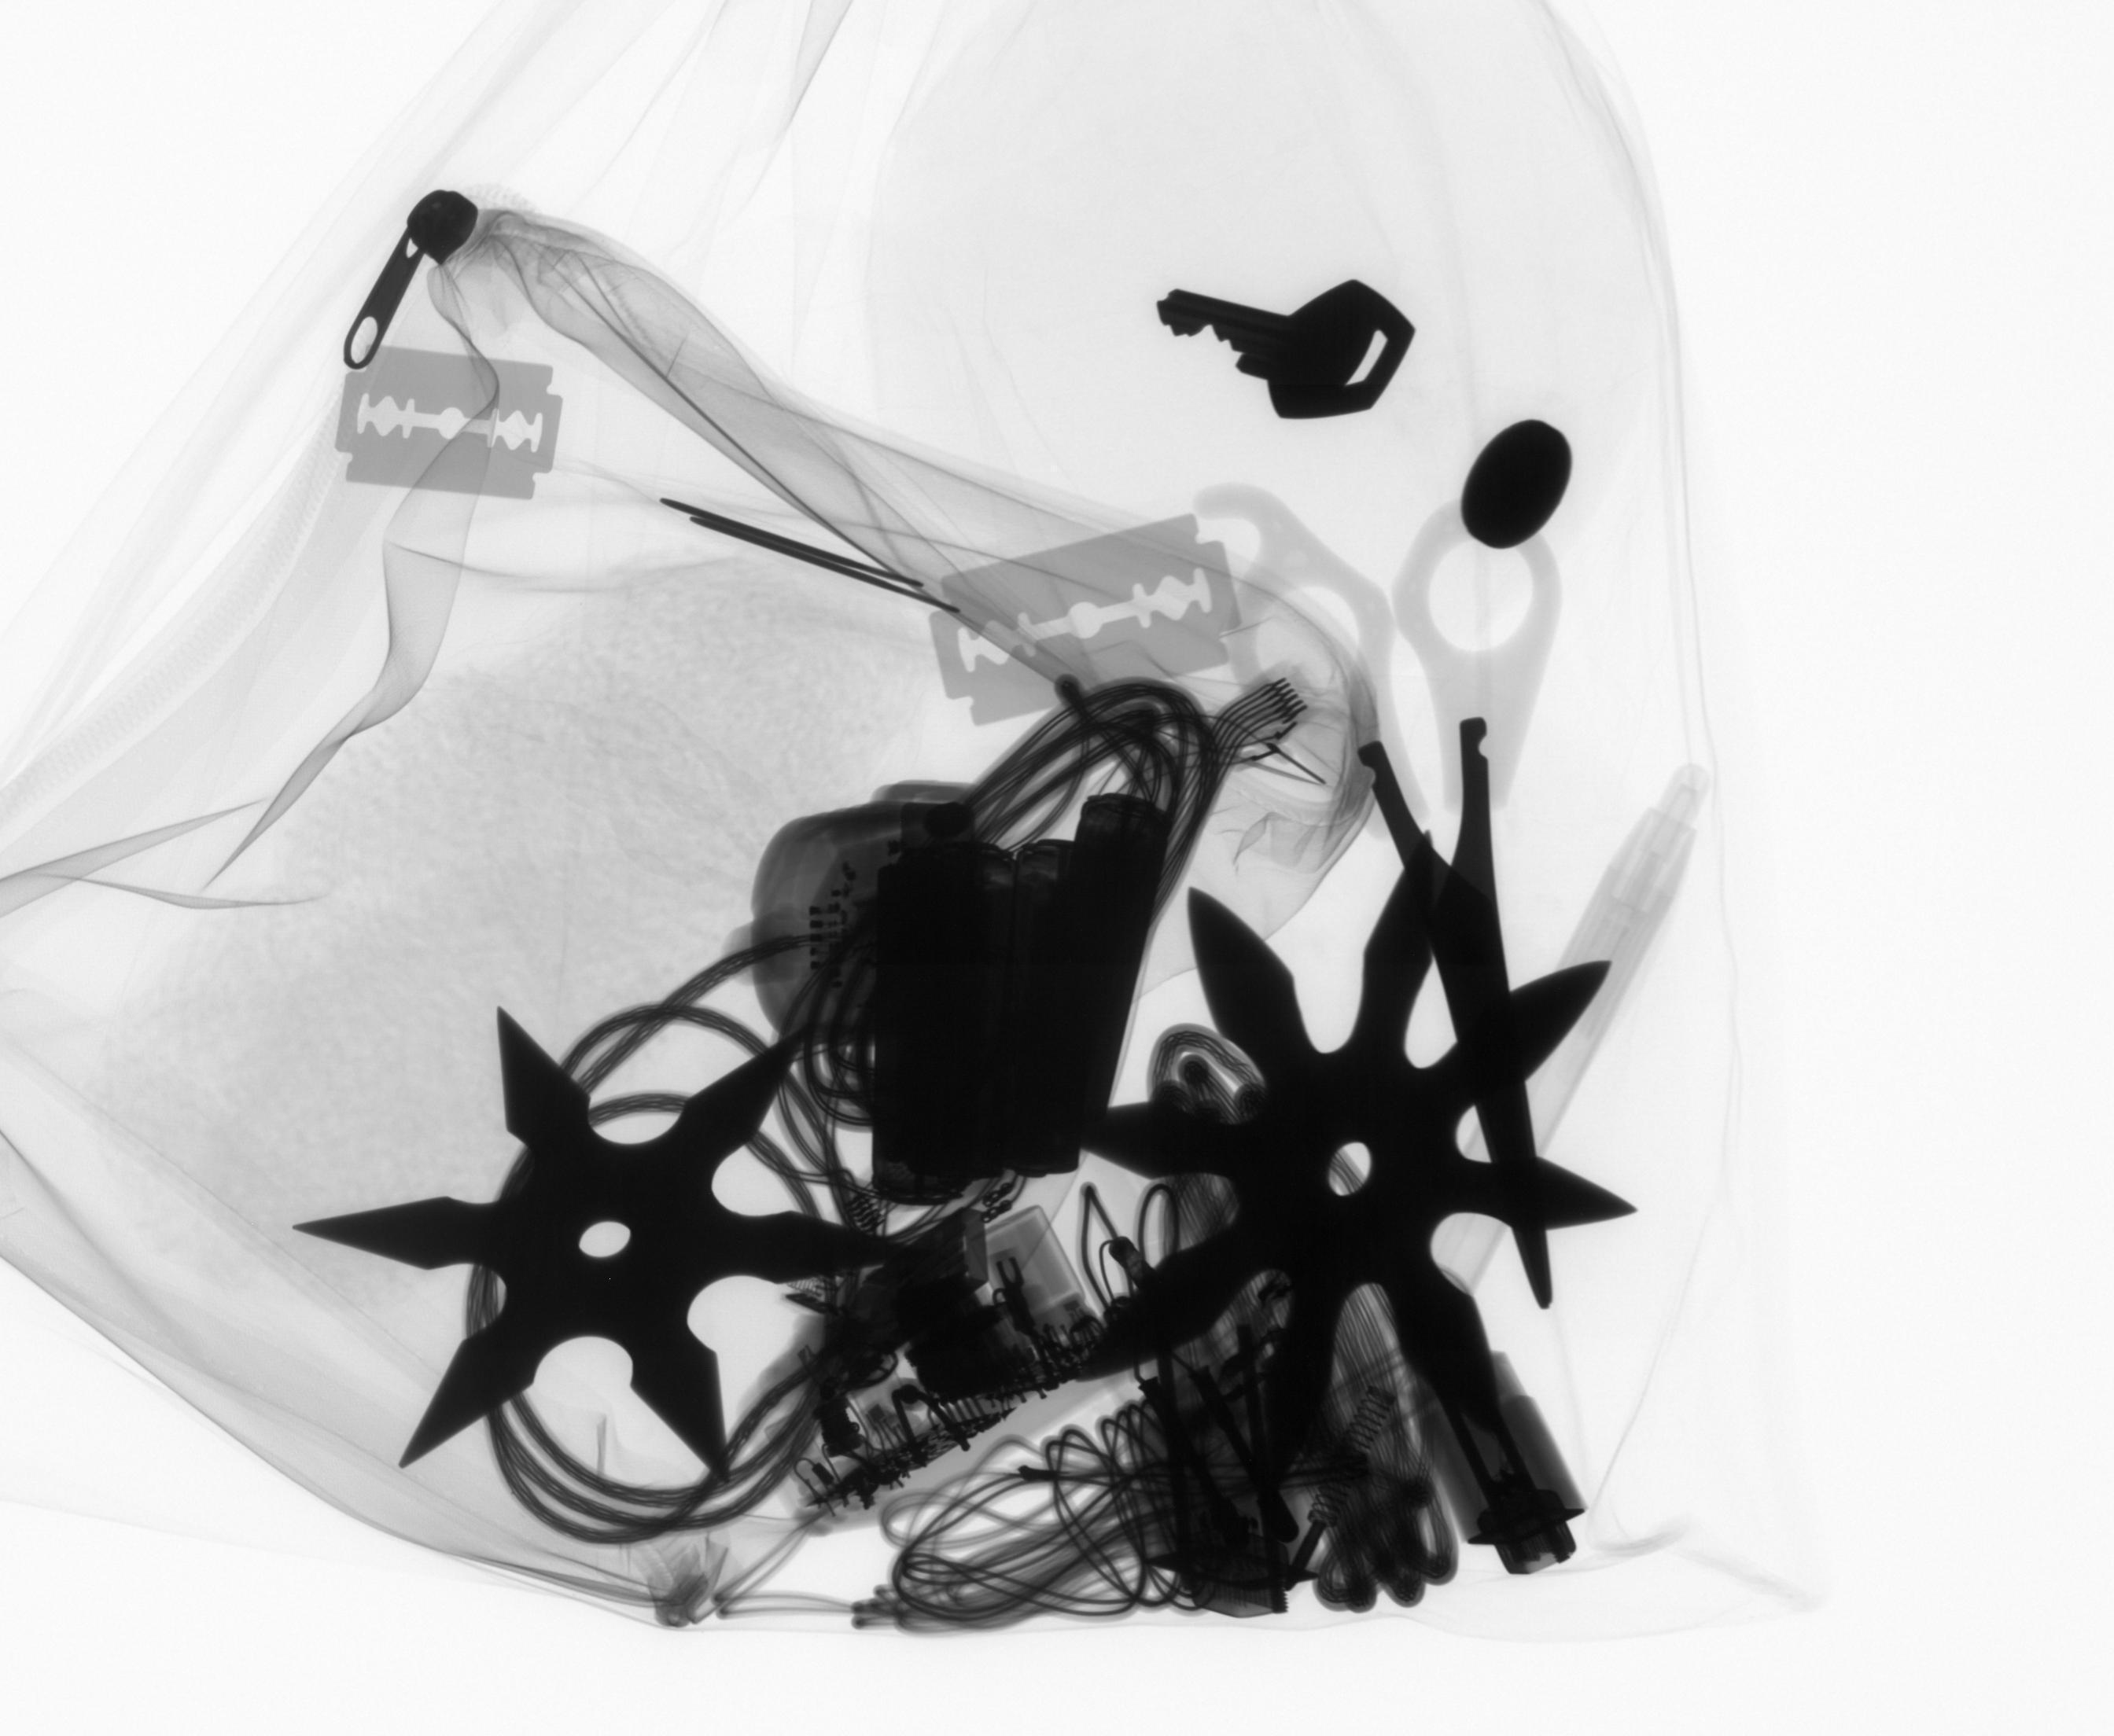RazorBlade: (906, 502, 1269, 730), (330, 334, 581, 518)
Shuriken: (1050, 841, 1649, 1448), (311, 988, 925, 1511)
